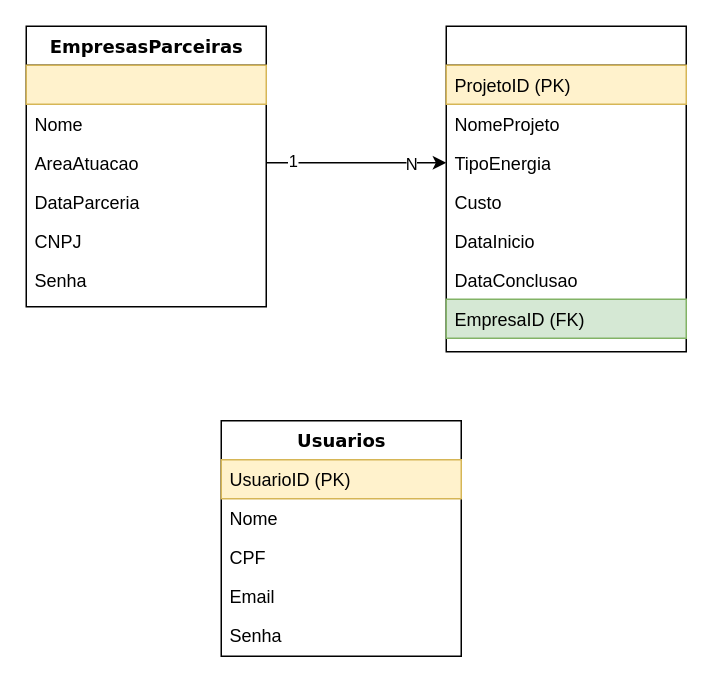
The diagram is 713 pixels wide and 686 high, and some of its shapes have lost their labels. The shapes that lost their labels are listed below. From the top down, each one's box as (x1, y1, x2, y2) in pixels, then its label:
(25, 64, 266, 104): EmpresaID (PK)
(445, 25, 686, 352): ProjetosEnergeticos
